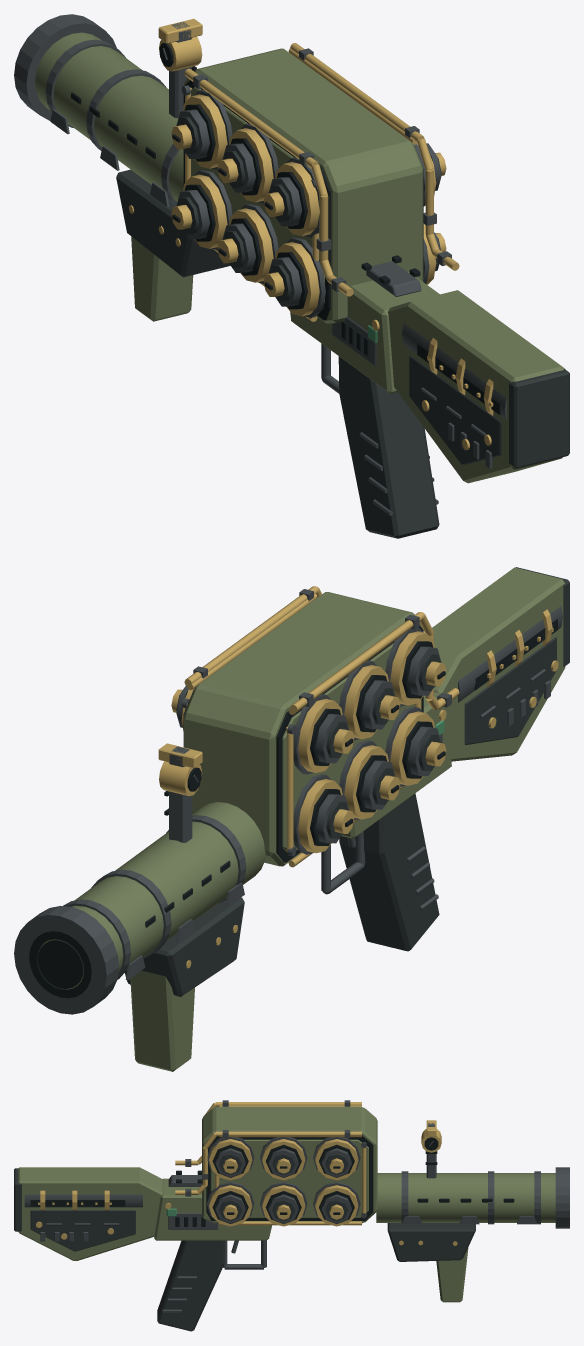
File: grenade_1.glb
3 views of the same model, one above another, from view 1: azimuth 30°, elevation 25°; view 2: azimuth 150°, elevation 25°; view 3: azimuth 270°, elevation 25° (orthographic). The views are drawn at different scales.
Visible parts, largest first — view 1: Weapon_grenade_v1; view 2: Weapon_grenade_v1; view 3: Weapon_grenade_v1.
Boxes of the visible parts, <box> form: Weapon_grenade_v1: <box>14,14,569,538</box>; Weapon_grenade_v1: <box>14,567,569,1071</box>; Weapon_grenade_v1: <box>14,1100,569,1331</box>.
Size of the model in its own units: 0.162 by 0.3222 by 0.775.
